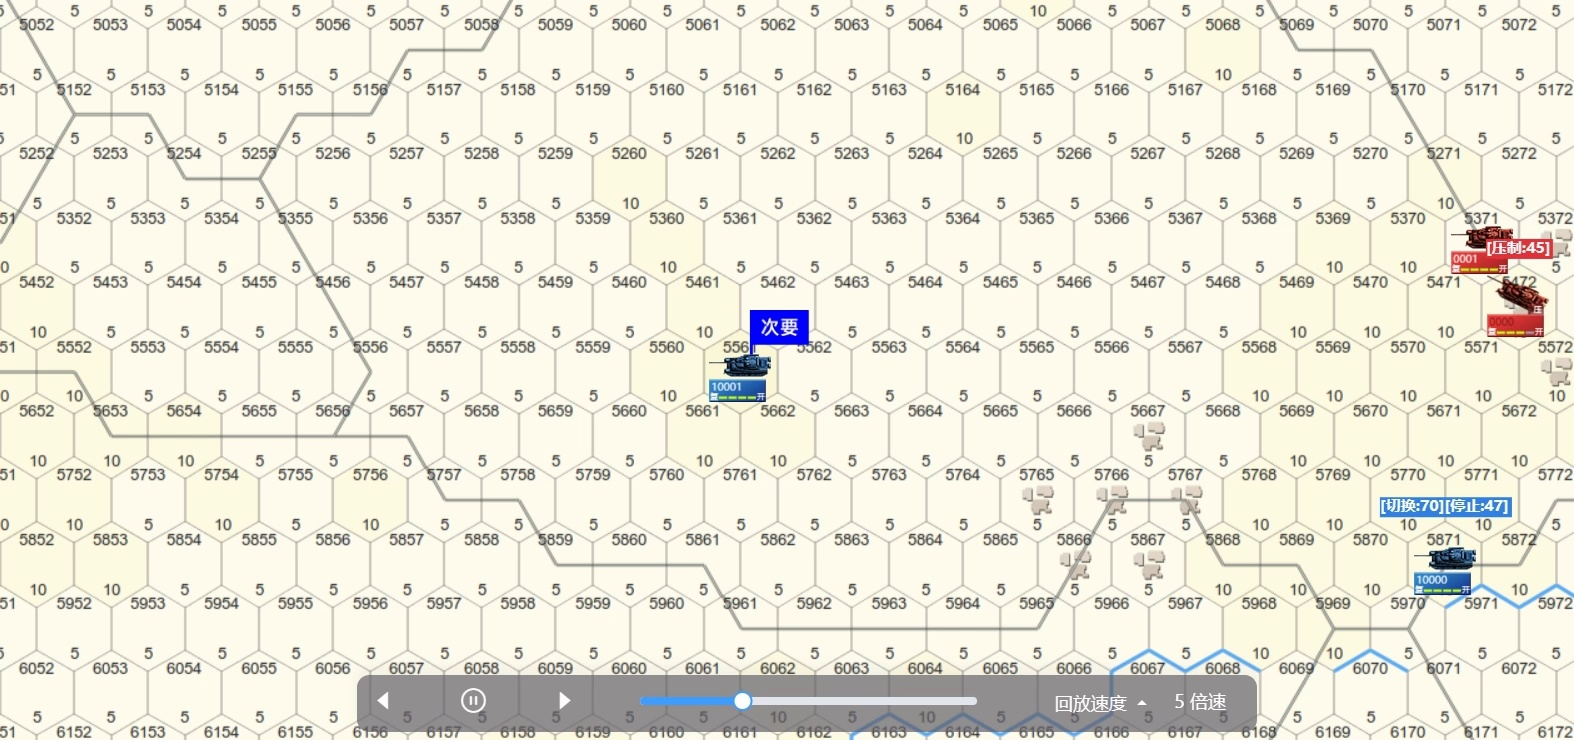blue_tank: (1415, 544, 1474, 599), (713, 354, 771, 407)
red_tank: (1447, 226, 1515, 276), (1489, 283, 1545, 341)
